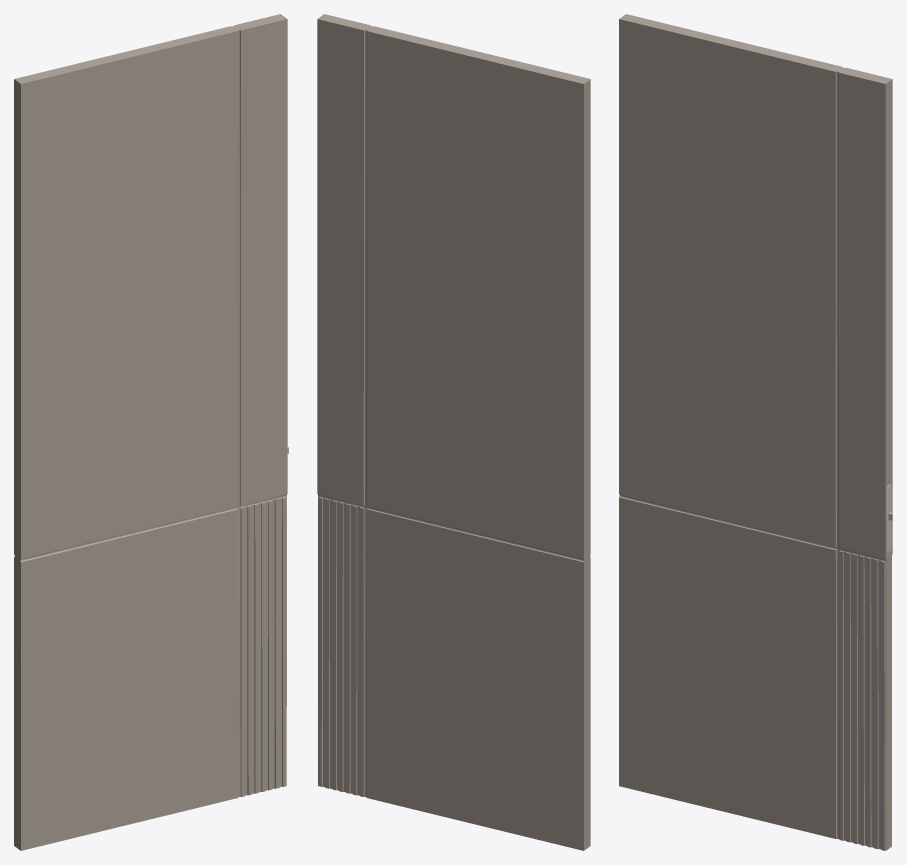
Rendered from 31_SIDNEY_Door.glb.
3 views of the same model, side by side, from view 1: azimuth 30°, elevation 25°; view 2: azimuth 150°, elevation 25°; view 3: azimuth 330°, elevation 25° (orthographic).
Visible parts, largest first — view 1: 31_SIDNEY_Door; view 2: 31_SIDNEY_Door; view 3: 31_SIDNEY_Door.
Boxes of the visible parts, <box> form: 31_SIDNEY_Door: <box>14,14,288,850</box>; 31_SIDNEY_Door: <box>317,14,590,850</box>; 31_SIDNEY_Door: <box>619,14,892,850</box>.
Size of the model in its own units: 0.8117 by 2.2 by 0.036.
